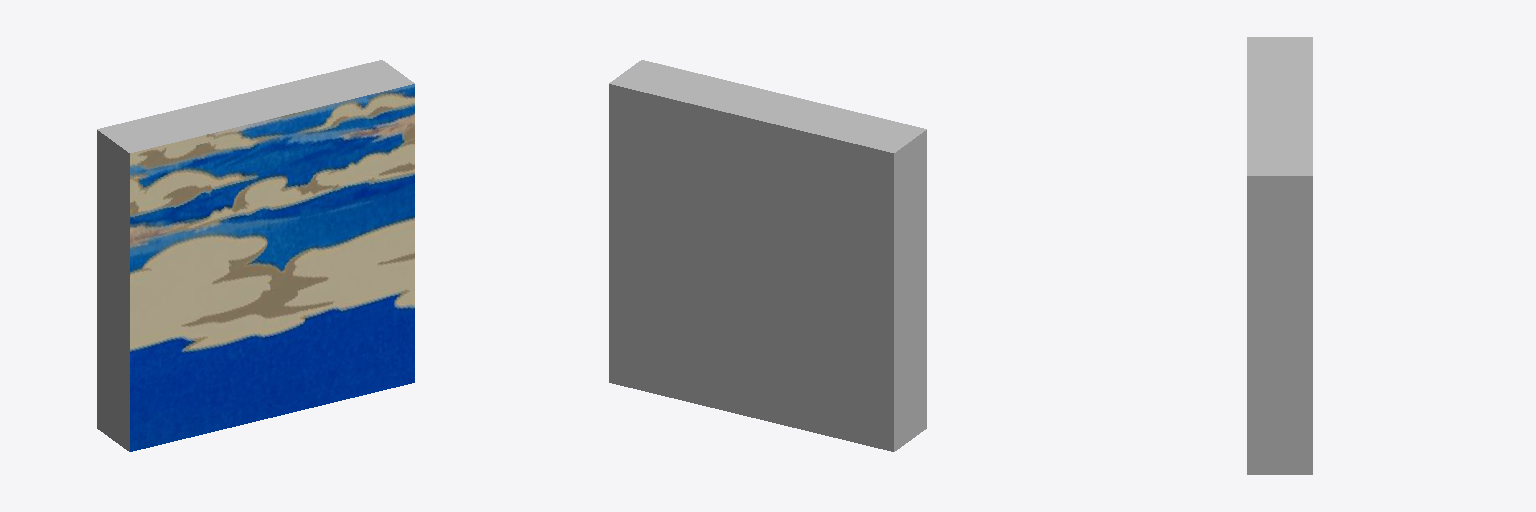
The picture shows the model from 3 angles: view 1: azimuth 30°, elevation 25°; view 2: azimuth 150°, elevation 25°; view 3: azimuth 270°, elevation 25°; orthographic projection.
Visible parts, largest first — view 1: Object.1; view 2: Object.1; view 3: Object.1.
Boxes of the visible parts, box(x1,y1,x2,y2) form: Object.1: box(97, 60, 414, 451); Object.1: box(609, 60, 926, 451); Object.1: box(1247, 37, 1312, 474).
Bounding box in the file's own units: 16387 × 16387 × 3277.
1 materials, 1 textured.